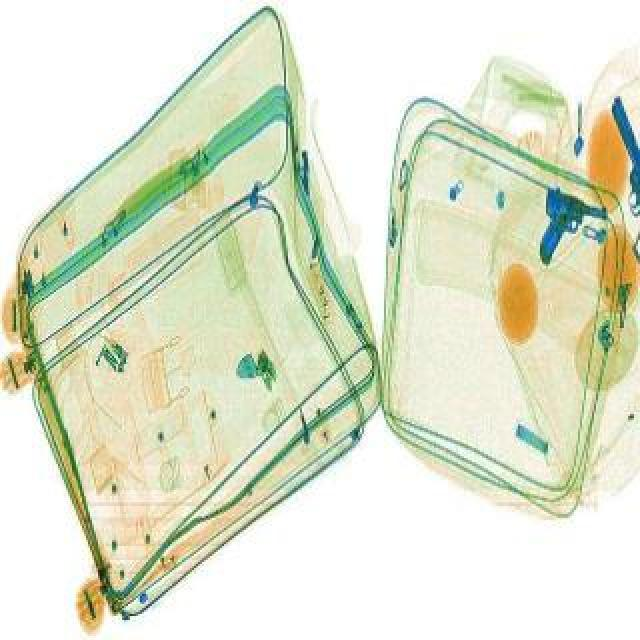gun: (528, 184, 612, 272)
